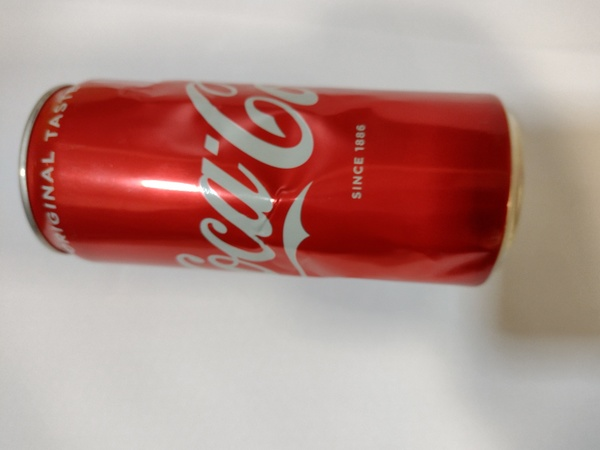can: (11, 72, 533, 296)
